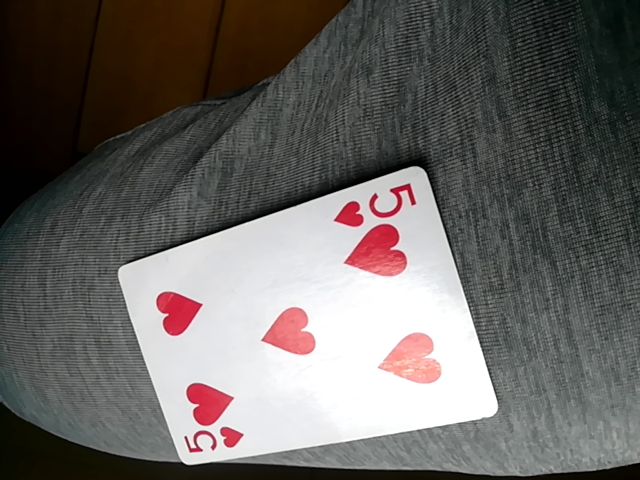hx 5: (120, 169, 499, 469)
